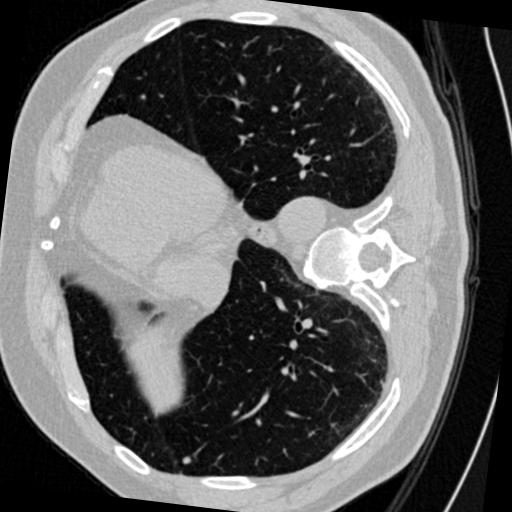nodule: (180, 455, 194, 469)
